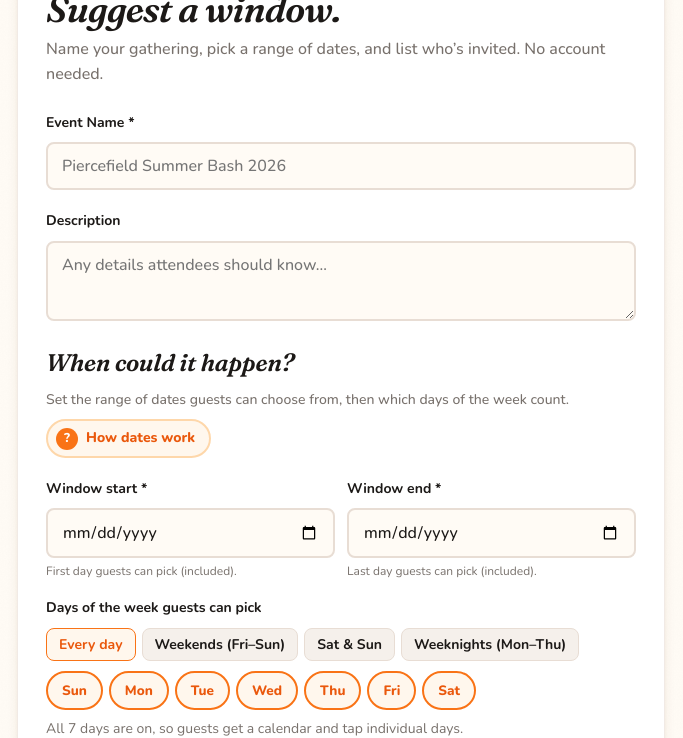
Scenario: CreateEvent › shows the all-set moment with both links after creating
Type "Reunion" into the field labelled "Event Name *" at (341, 166), box [46,142,636,190]
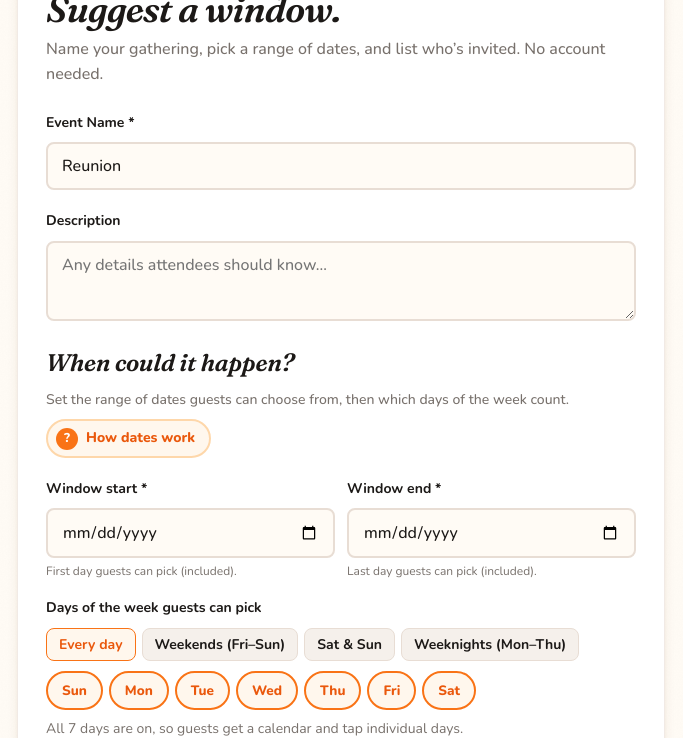
Type "2026-07-01" into the date field labelled "Window start *" at (190, 533), box [46,508,335,558]
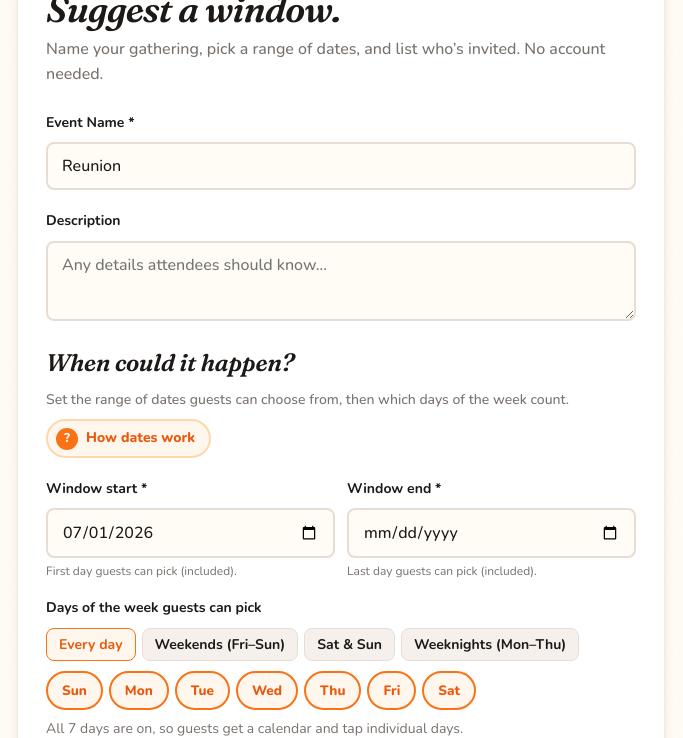
Type "2026-07-31" into the date field labelled "Window end *" at (492, 533), box [347,508,636,558]
(page scrolled)
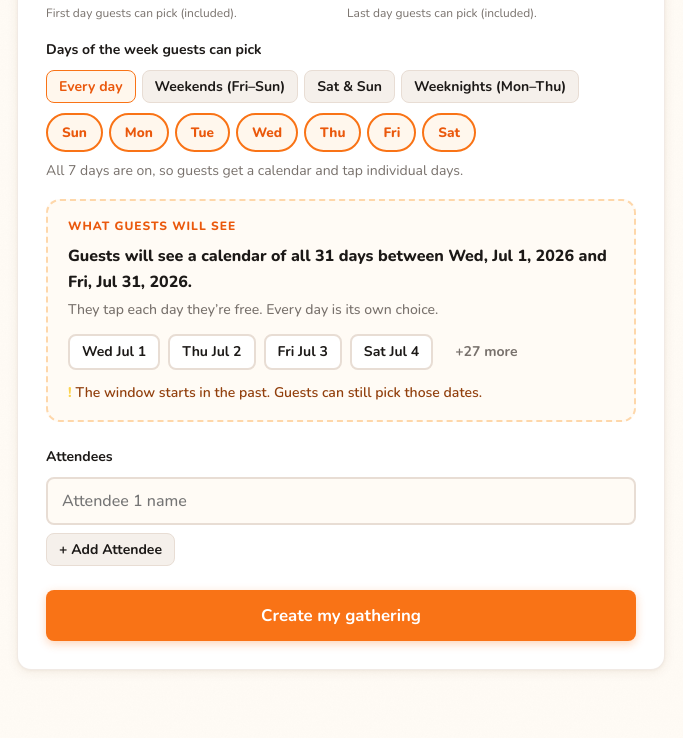
Click the button "Create my gathering" at (341, 615), box [46,590,636,641]
(page scrolled)
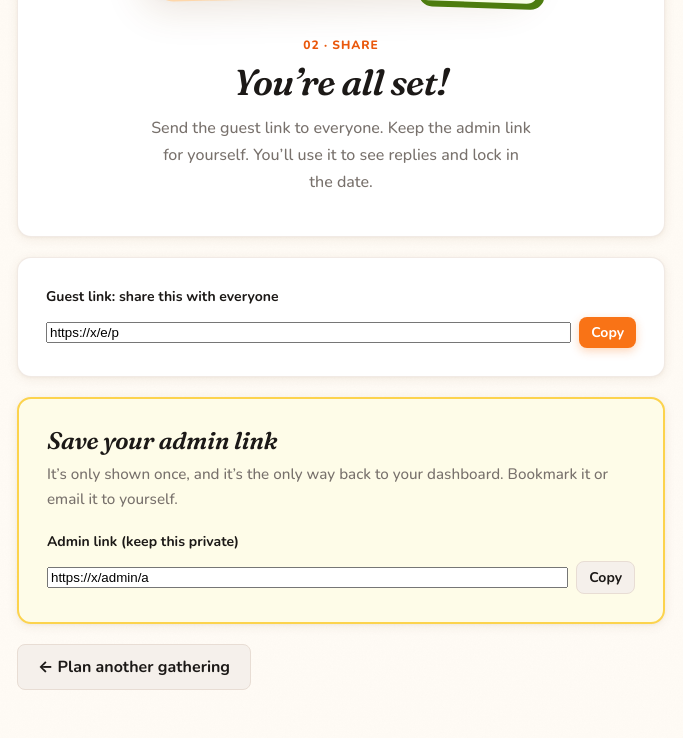
Check: the heading "You’re all set!" is shown, box [234,60,448,104]
Check: the field labelled "Guest link: share this with everyone" holds "https://x/e/p", box [46,322,571,343]
Check: the field labelled "Admin link (keep this private)" holds "https://x/admin/a", box [47,567,568,588]
